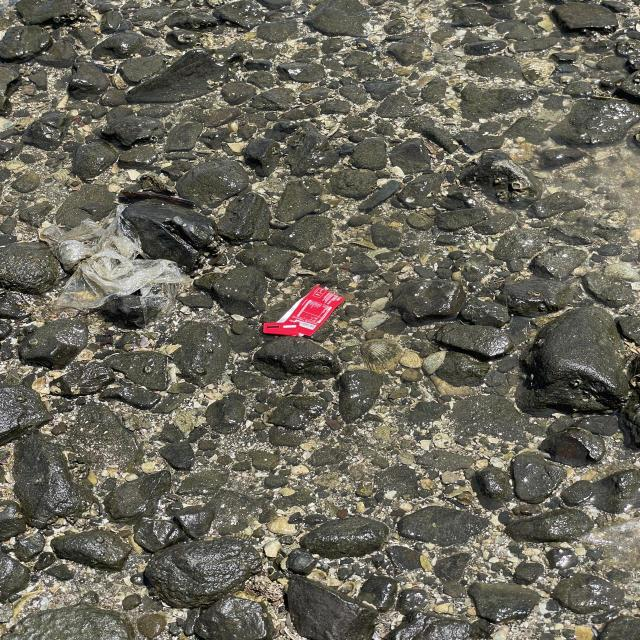plastic_waste: (262, 288, 347, 340)
